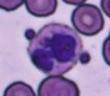N: (28, 22, 82, 75)
